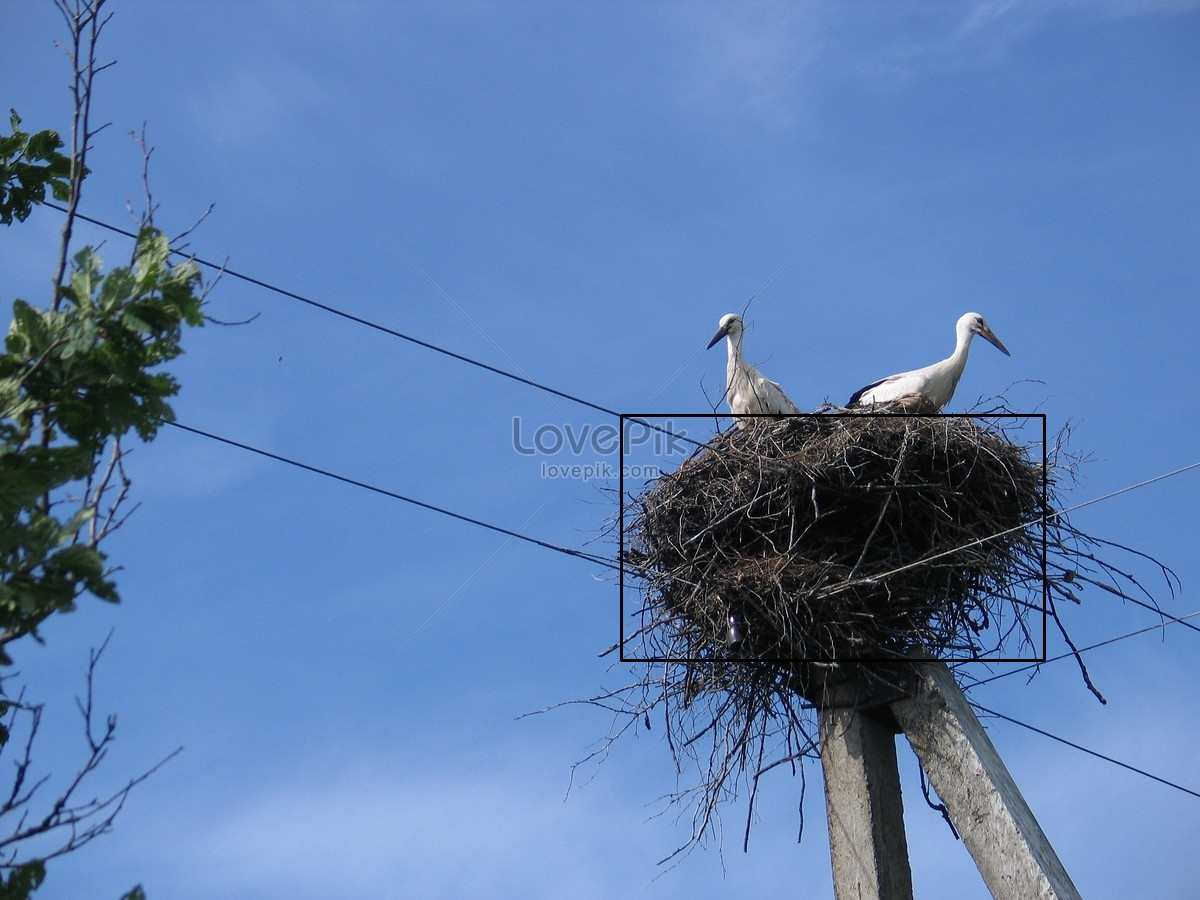bird-nest: (621, 415, 1044, 660)
